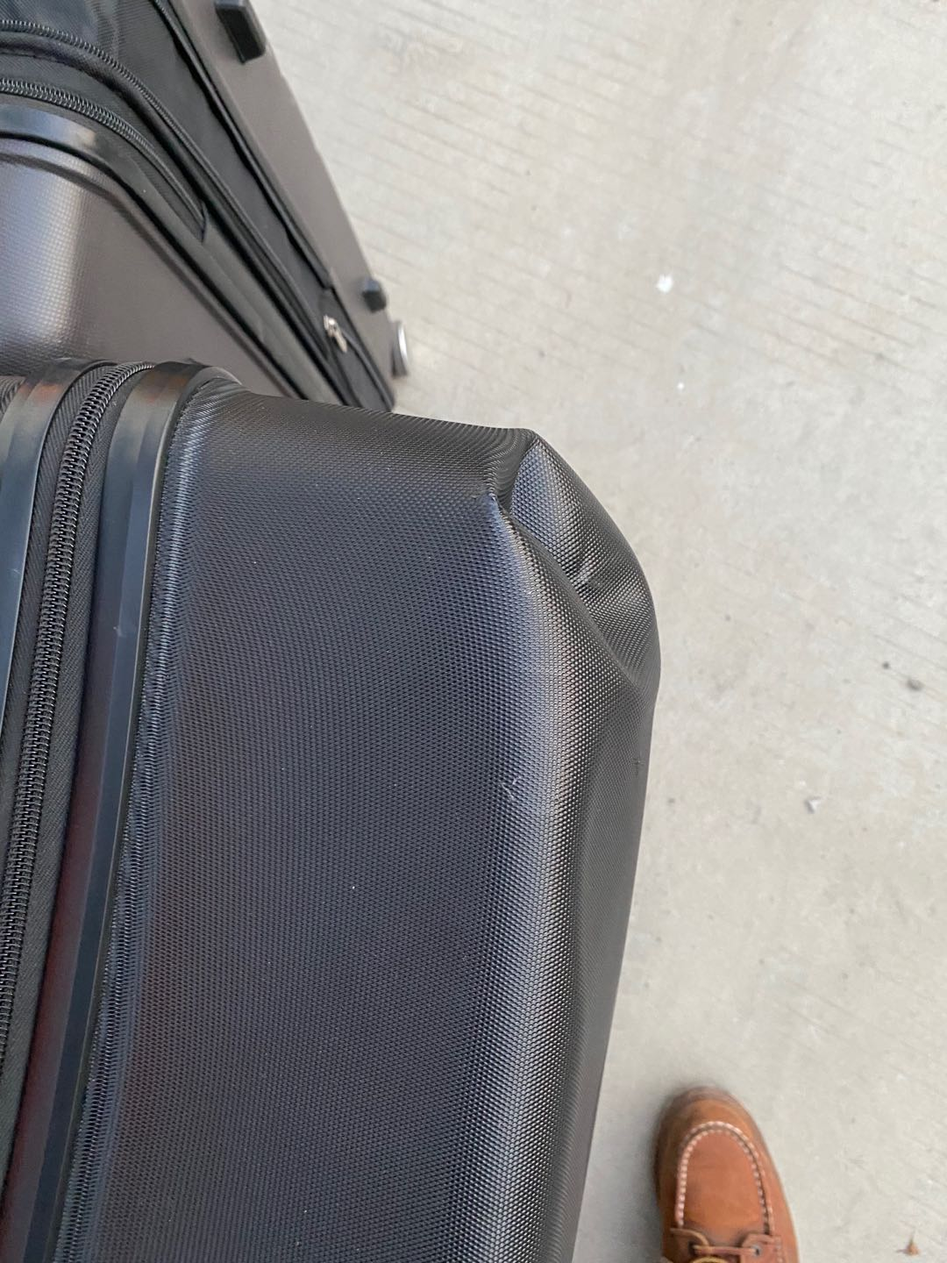rupture: (481, 428, 656, 688), (565, 691, 627, 1009)
